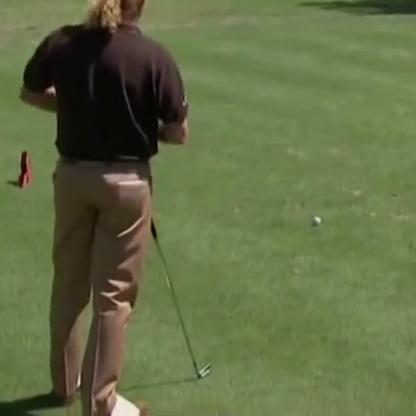golfball: (310, 214, 320, 224)
